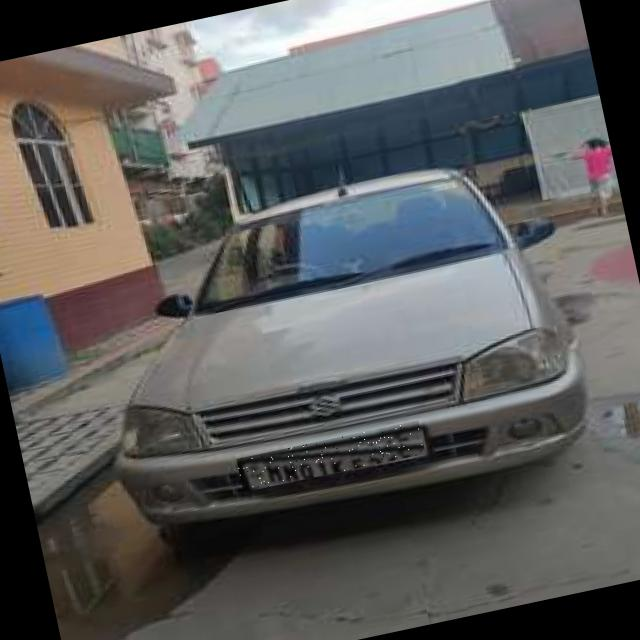Plate: (237, 421, 426, 493)
